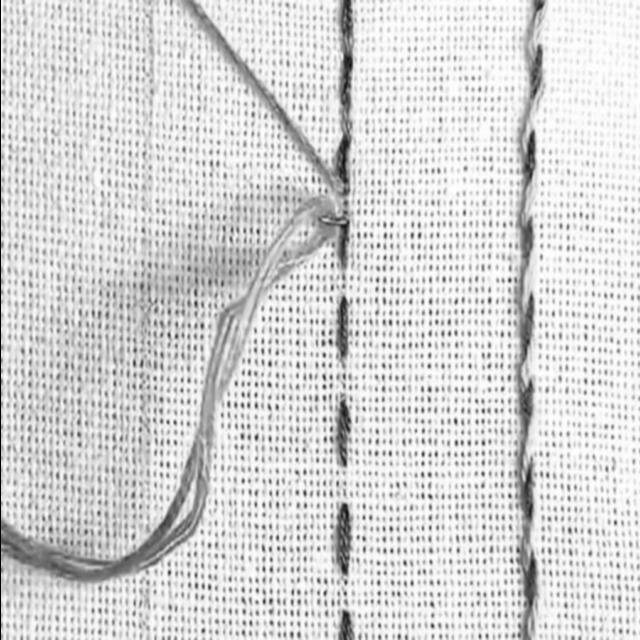stitch: (520, 80, 545, 157), (518, 405, 538, 486), (517, 239, 537, 314), (520, 494, 537, 577), (526, 0, 546, 64), (520, 167, 538, 227), (336, 397, 351, 467), (337, 503, 351, 575), (518, 338, 536, 394), (336, 297, 350, 362), (520, 456, 535, 516), (522, 589, 539, 639), (524, 550, 539, 606), (336, 139, 351, 194), (522, 130, 536, 180), (521, 294, 533, 350), (519, 377, 533, 420), (531, 45, 542, 98), (339, 220, 350, 270), (521, 216, 534, 256), (341, 56, 352, 102), (341, 98, 352, 139), (338, 611, 354, 639), (341, 0, 352, 28), (341, 27, 352, 55)
